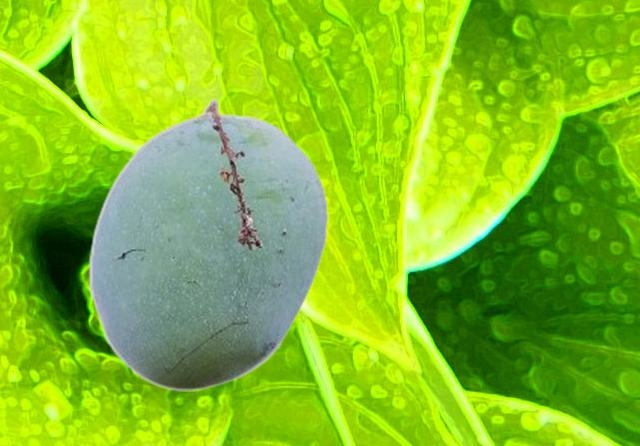green_mango: (88, 98, 328, 390)
